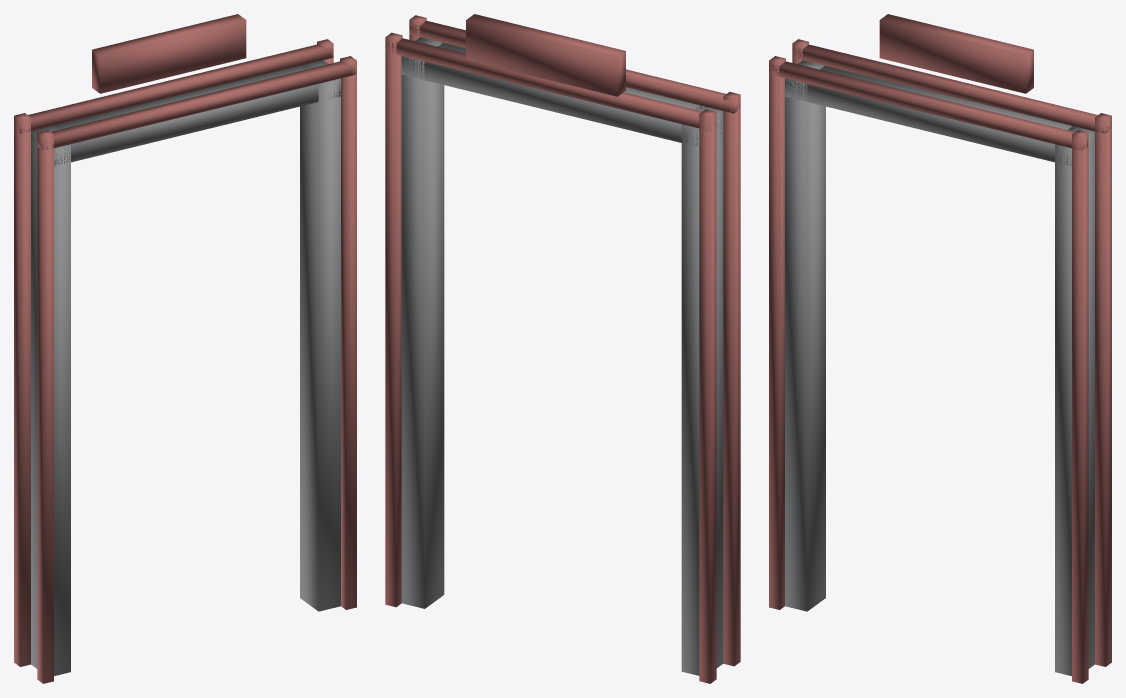
The model's file is doorway_emergency_exit_w122_h240_d16.glb.
3 views of the same model, side by side, from view 1: azimuth 30°, elevation 25°; view 2: azimuth 150°, elevation 25°; view 3: azimuth 330°, elevation 25° (orthographic). The views are drawn at different scales.
Visible parts, largest first — view 1: world; view 2: world; view 3: world.
Part boxes in pixels (x1,y1,x2,y2): world: [14, 14, 356, 683]; world: [385, 14, 740, 683]; world: [769, 14, 1111, 683].
Bounding box in the file's own units: 1.55 × 2.77 × 0.2998.
